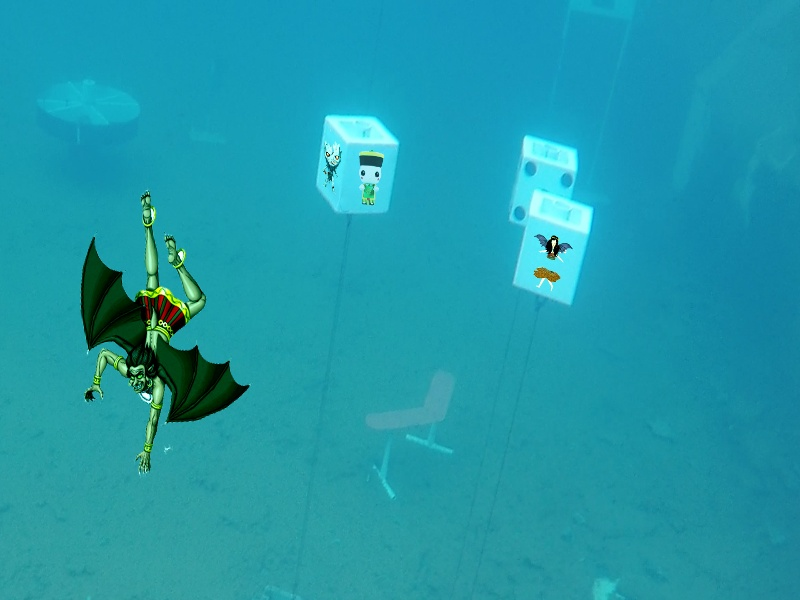Aswang: (531, 228, 574, 293)
Draugr: (320, 140, 343, 194)
Jiangshi: (355, 148, 385, 206)
Vetalas: (78, 187, 251, 476)
